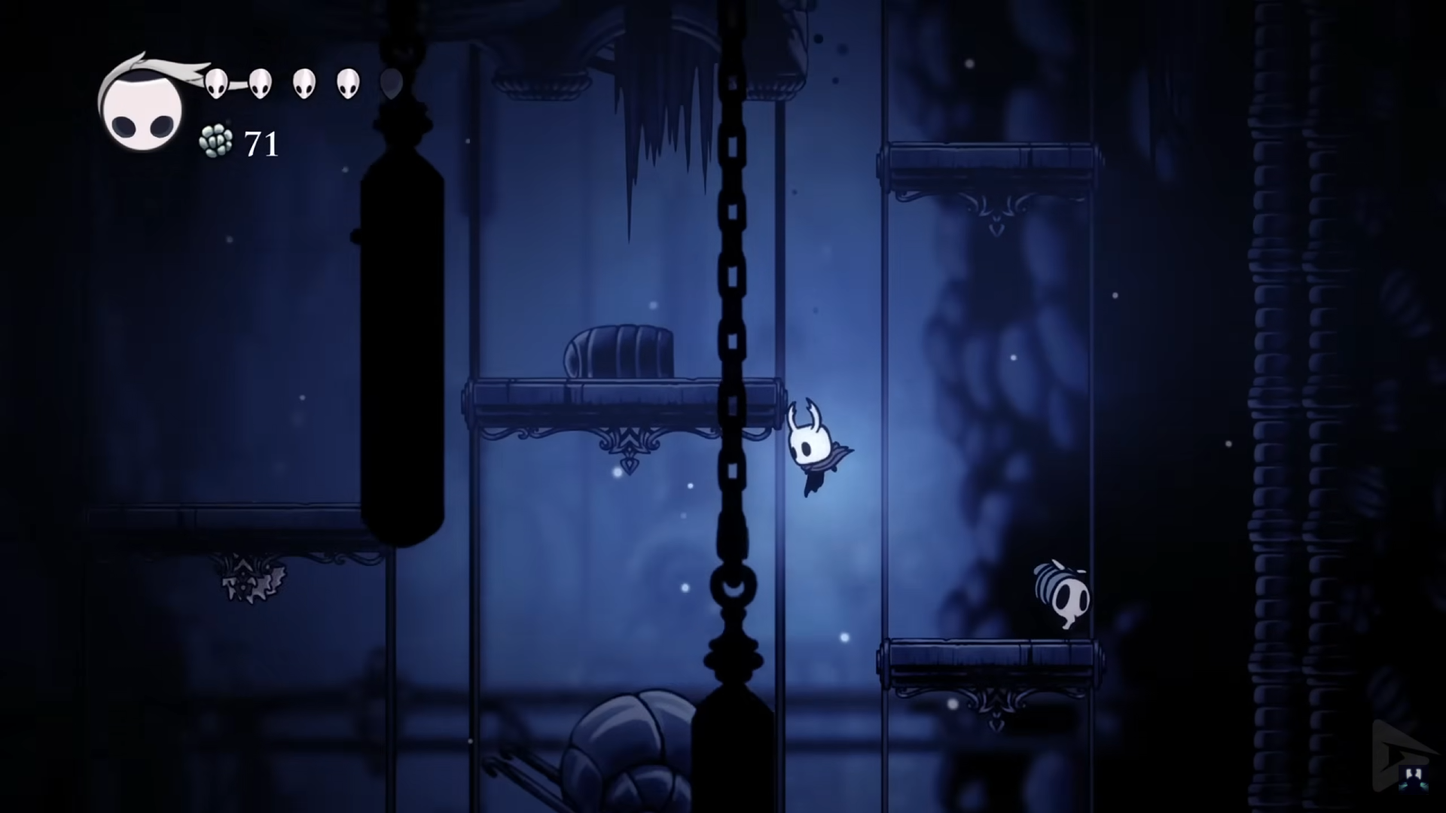HK: (785, 395, 856, 502)
